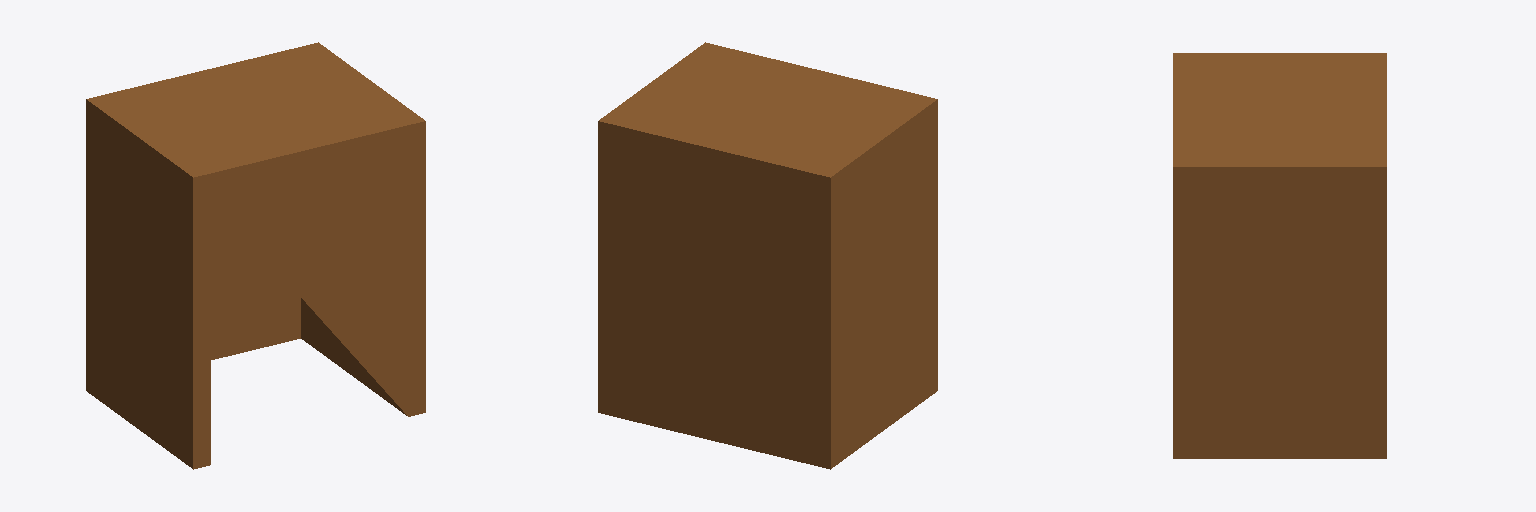
Rendered from Nightstand-SideTable.obj.
3 views of the same model, side by side, from view 1: azimuth 30°, elevation 25°; view 2: azimuth 150°, elevation 25°; view 3: azimuth 270°, elevation 25° (orthographic).
Parts seen in each view (by area): view 1: Mesh1 Model; view 2: Mesh1 Model; view 3: Mesh1 Model.
Part boxes in pixels (bbox=[...]): Mesh1 Model: bbox=[86, 42, 425, 469]; Mesh1 Model: bbox=[598, 42, 937, 469]; Mesh1 Model: bbox=[1173, 53, 1386, 458].
Size of the model in its own units: 20 by 24 by 16.